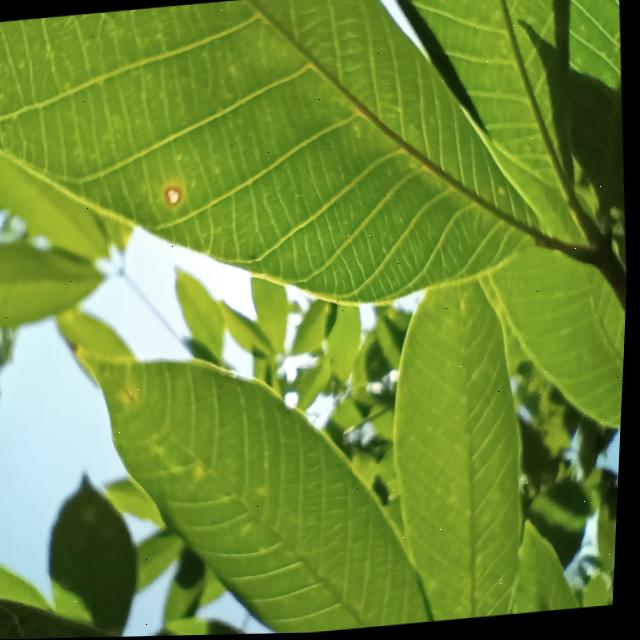Colletotrichum: (166, 188, 181, 206)
